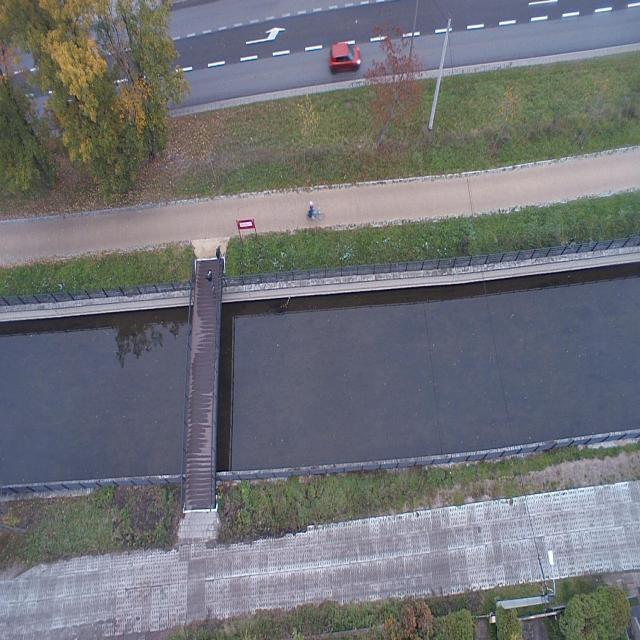p3rson: (206, 270, 215, 292), (216, 246, 222, 269), (310, 201, 317, 219)
